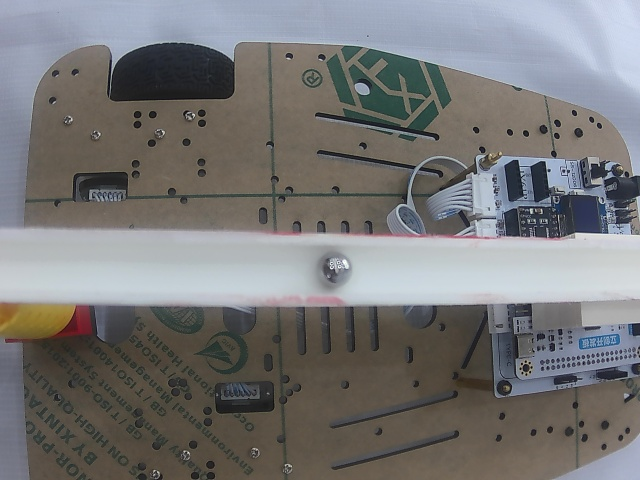steelball: (315, 252, 353, 289)
